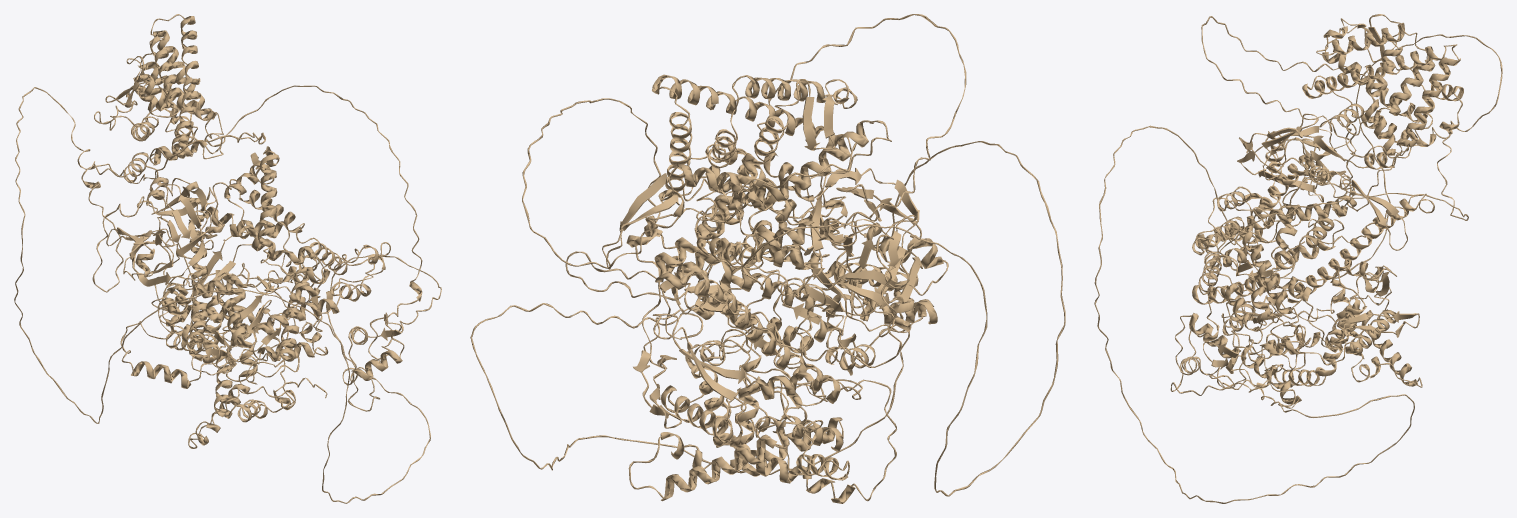
3 renders of one model, left to right at view 1: azimuth 30°, elevation 25°; view 2: azimuth 150°, elevation 25°; view 3: azimuth 270°, elevation 25°, orthographic. The views are drawn at different scales.
Bounding box in the file's own units: 136 × 133 × 120.
